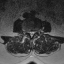CCS_normal: (30, 29, 32, 39)
LFS_stenosis: (34, 28, 37, 34)
LLS_normal: (32, 29, 34, 37)
RFS_stenosis: (26, 28, 28, 35)
RLS_normal: (28, 29, 30, 37)
